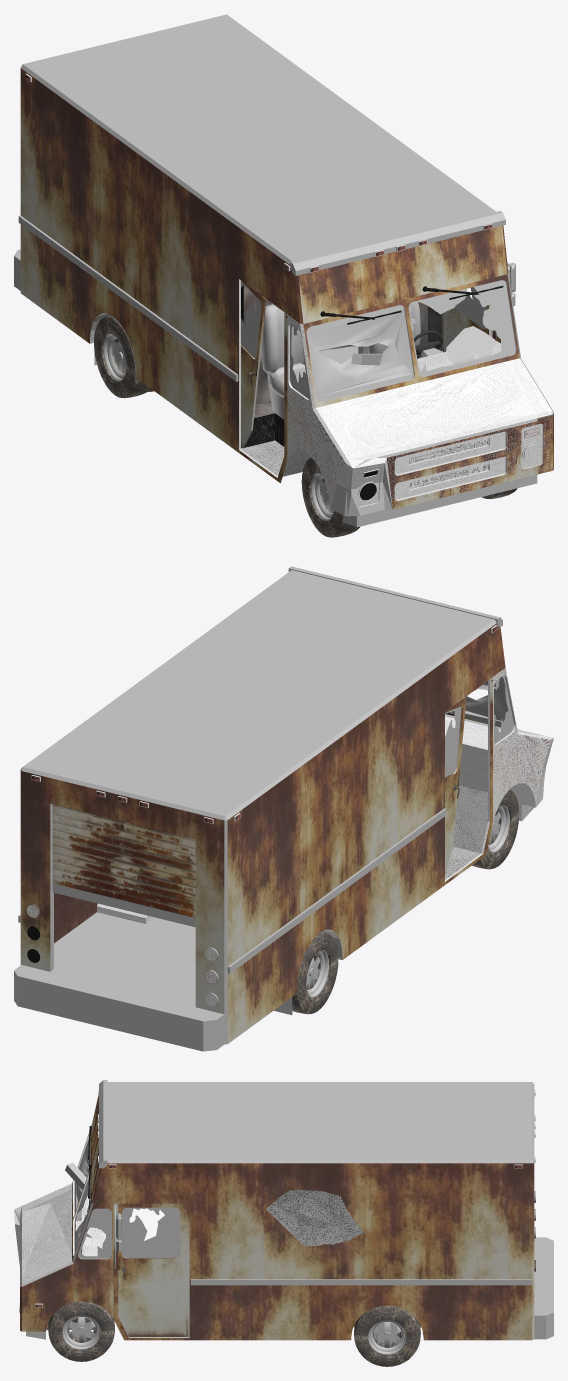
The model's file is bullshit_truck.dae.
The picture shows the model from 3 angles, top to bottom: view 1: azimuth 30°, elevation 25°; view 2: azimuth 150°, elevation 25°; view 3: azimuth 270°, elevation 25°; orthographic projection. The views are drawn at different scales.
Parts seen in each view (by area): view 1: SketchUp (×12), Group_7 (×2), Tyre (×2), Group_6 (×2), Group_1, Group_141 (×3), Group_142, Group_2, Group_4 (×2); view 2: SketchUp (×9), group_1 (×3), group_0, Tyre (×2), Group_2, Group_141 (×2), Group_4 (×2), Group_7, Group_1; view 3: SketchUp (×9), Group_141 (×2), Tyre (×2), Component_2 (×2), Group_2, group_0, Group_4 (×2), Group_7 (×2), Group_1.
Boxes of the visible parts, x1,y1,x2,y2 form: SketchUp (×12): (20,14,553,527); Group_7 (×2): (306,280,515,401); Tyre (×2): (94,315,359,537); Group_6 (×2): (394,431,507,500); Group_1: (290,211,505,275); Group_141 (×3): (241,281,488,448); Group_142: (261,304,306,419); Group_2: (18,215,238,381); Group_4 (×2): (103,333,333,520); SketchUp (×9): (20,570,550,1044); group_1 (×3): (50,803,195,1007); group_0: (14,965,224,1051); Tyre (×2): (292,789,519,1014); Group_2: (227,808,446,973); Group_141 (×2): (445,698,466,873); Group_4 (×2): (306,805,509,997); Group_7: (448,677,508,725); Group_1: (288,566,502,627); SketchUp (×9): (14,1082,534,1340); Group_141 (×2): (118,1203,189,1336); Tyre (×2): (48,1301,420,1366); Component_2 (×2): (266,1189,364,1246); Group_2: (190,1279,532,1285); group_0: (534,1237,553,1339); Group_4 (×2): (62,1315,406,1354); Group_7 (×2): (74,1136,111,1258); Group_1: (99,1080,107,1168).
Bounding box in the file's own units: 106 × 270 × 115.
